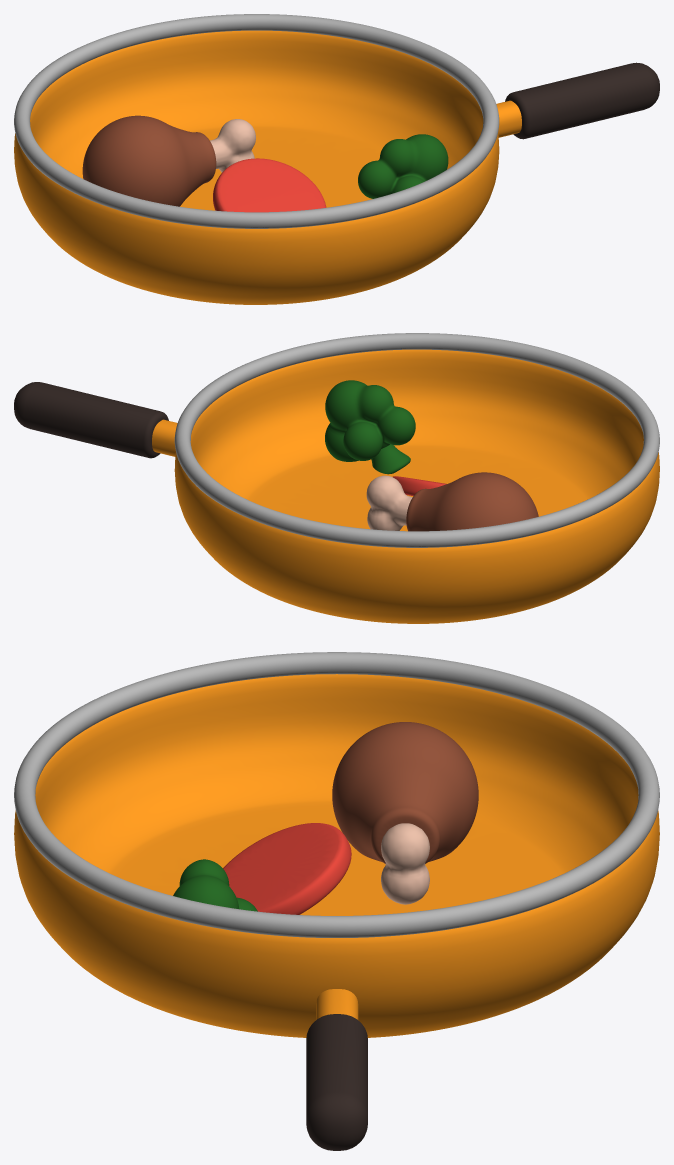
File: preparing-food-animated-3d-icon-1599671243772.glb
3 views of the same model, one above another, from view 1: azimuth 30°, elevation 25°; view 2: azimuth 150°, elevation 25°; view 3: azimuth 270°, elevation 25° (orthographic). The views are drawn at different scales.
Visible parts, largest first — view 1: Pan, Edge Pan, Fried Chicken, Handle.002, Tomato Slice, Brocoli, Bone; view 2: Pan, Edge Pan, Handle.002, Brocoli, Fried Chicken, Bone, Tomato Slice; view 3: Pan, Edge Pan, Fried Chicken, Tomato Slice, Handle.002, Bone, Brocoli.
Boxes of the visible parts, bbox=[...] form: Pan: bbox=[14, 30, 521, 304]; Edge Pan: bbox=[14, 14, 499, 228]; Fried Chicken: bbox=[82, 115, 216, 206]; Handle.002: bbox=[505, 62, 659, 139]; Tomato Slice: bbox=[213, 158, 326, 212]; Brocoli: bbox=[358, 134, 448, 198]; Bone: bbox=[210, 119, 255, 172]; Pan: bbox=[152, 349, 659, 623]; Edge Pan: bbox=[174, 333, 659, 547]; Handle.002: bbox=[14, 382, 168, 458]; Brocoli: bbox=[325, 380, 415, 474]; Fried Chicken: bbox=[406, 472, 538, 531]; Bone: bbox=[366, 475, 412, 530]; Tomato Slice: bbox=[393, 476, 446, 495]; Pan: bbox=[14, 674, 659, 1037]; Edge Pan: bbox=[14, 652, 659, 937]; Fried Chicken: bbox=[332, 722, 478, 863]; Tomato Slice: bbox=[223, 823, 351, 914]; Handle.002: bbox=[306, 1014, 367, 1150]; Bone: bbox=[381, 823, 429, 904]; Brocoli: bbox=[173, 859, 257, 911].
Bounding box in the file's own units: 2.87 × 0.5129 × 1.98.
